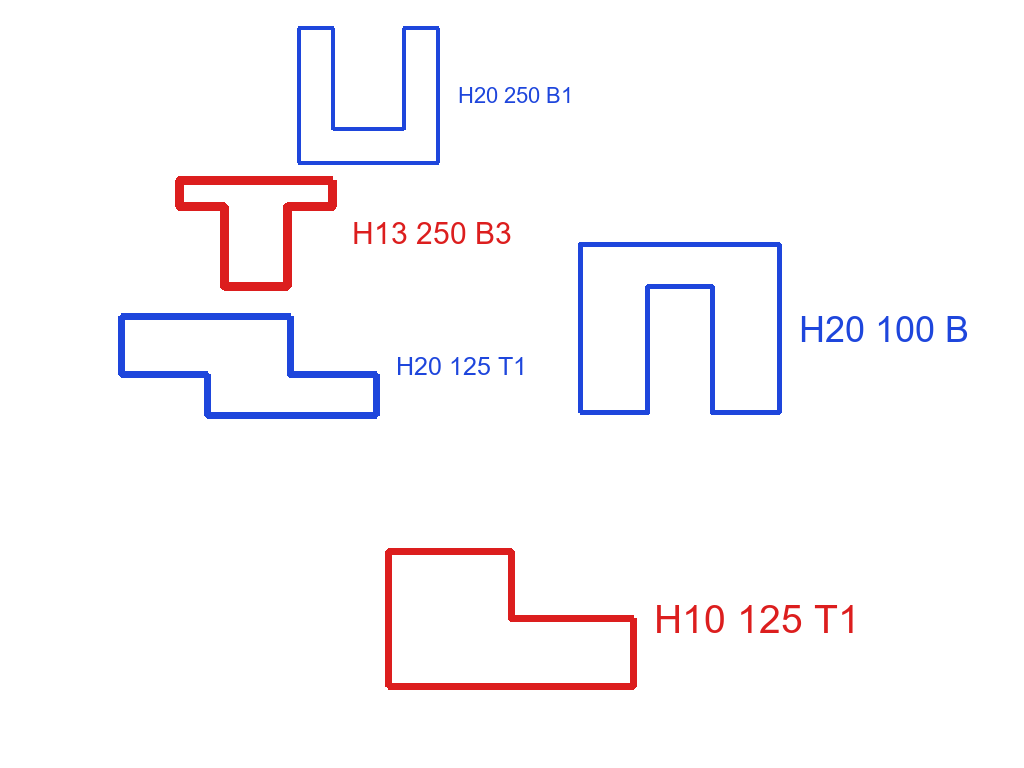shape: (383, 546, 639, 692), (576, 240, 784, 417), (116, 311, 382, 421), (295, 25, 442, 166), (173, 174, 339, 293)
text: (652, 603, 862, 635), (797, 314, 971, 344), (350, 220, 514, 246), (394, 355, 529, 377), (456, 85, 575, 105)
